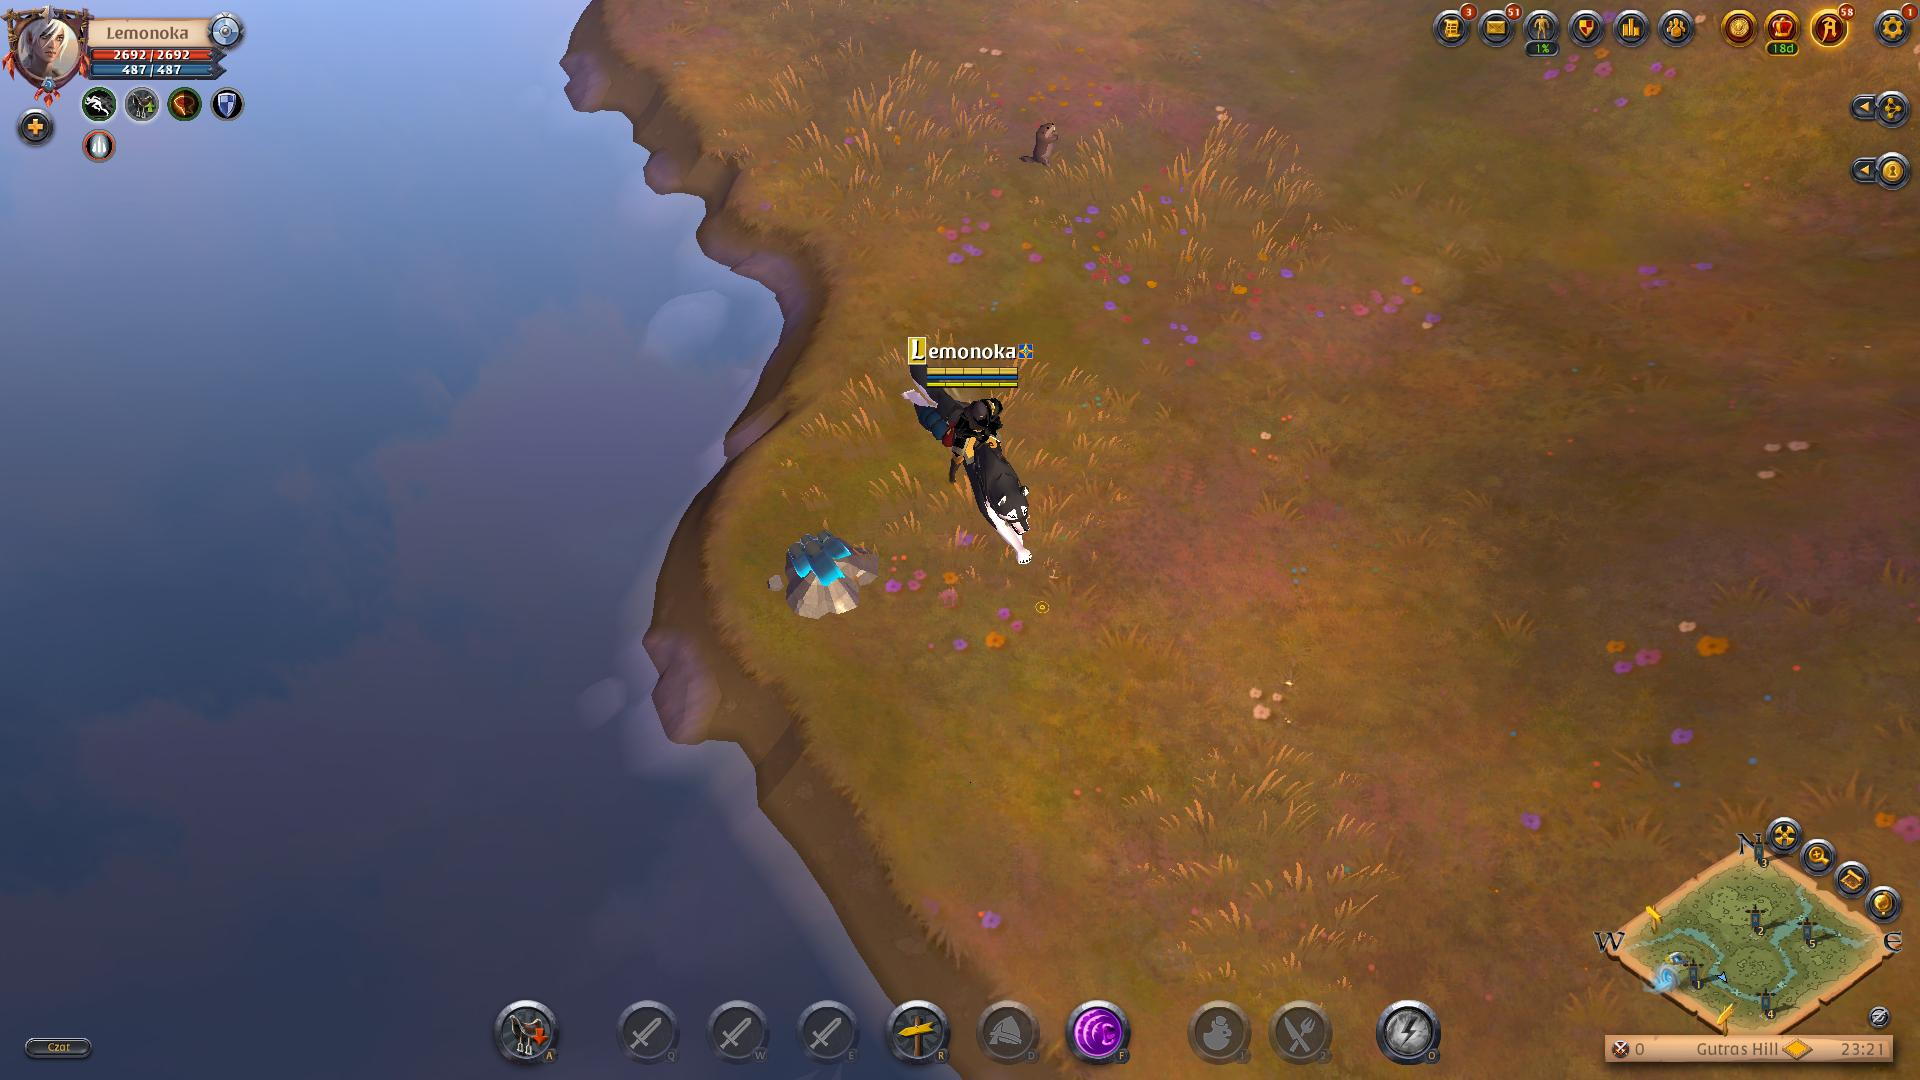ore tier 4: (771, 522, 886, 620)
